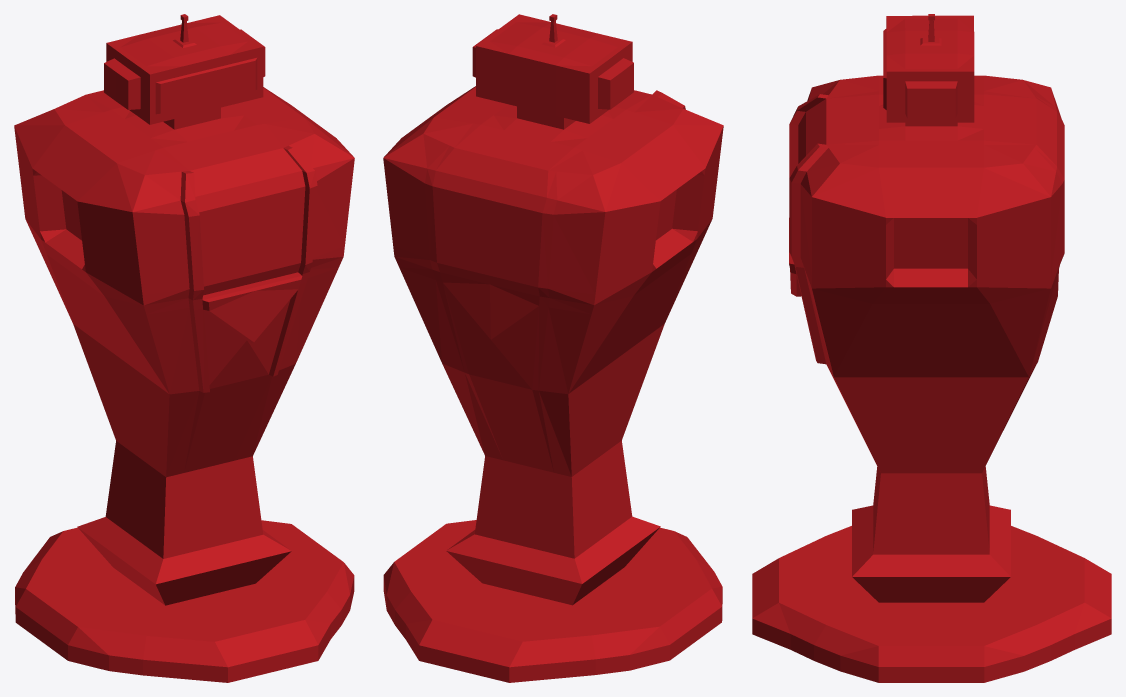
Rendered from player_robot.obj.
The picture shows the model from 3 angles, left to right: view 1: azimuth 30°, elevation 25°; view 2: azimuth 150°, elevation 25°; view 3: azimuth 270°, elevation 25°; orthographic projection.
Visible parts, largest first — view 1: Cube; view 2: Cube; view 3: Cube.
Boxes of the visible parts, bbox=[...] form: Cube: bbox=[14, 14, 354, 682]; Cube: bbox=[383, 14, 723, 682]; Cube: bbox=[752, 14, 1111, 682].
Size of the model in its own units: 4.01 by 7.91 by 4.32.
1 material, 1 textured.
